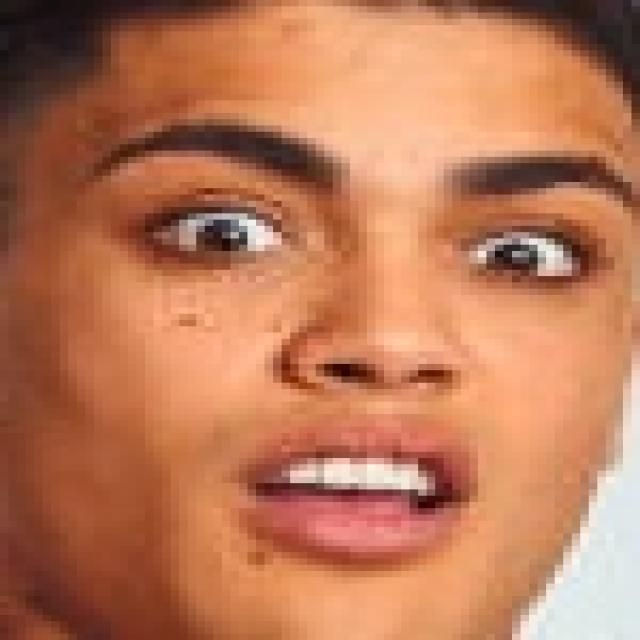Anxiety: (0, 8, 631, 634)
